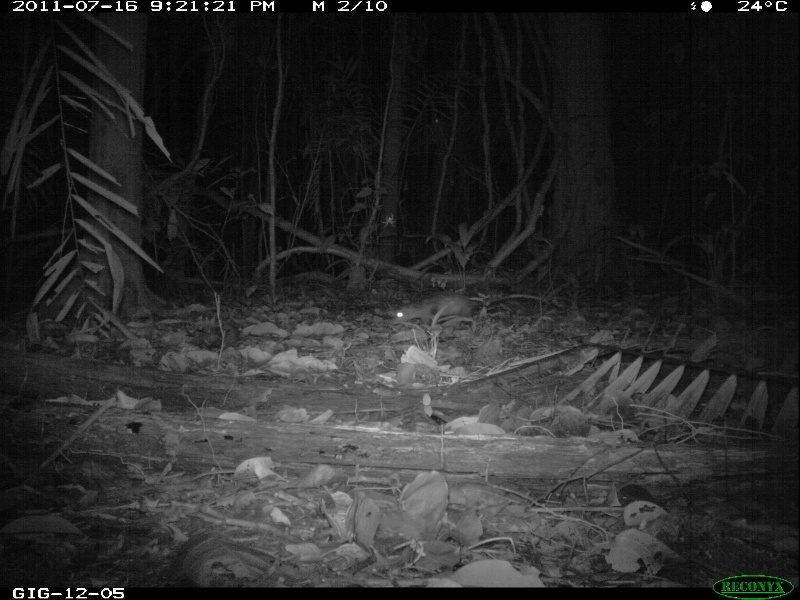opossum: (395, 288, 557, 324)
